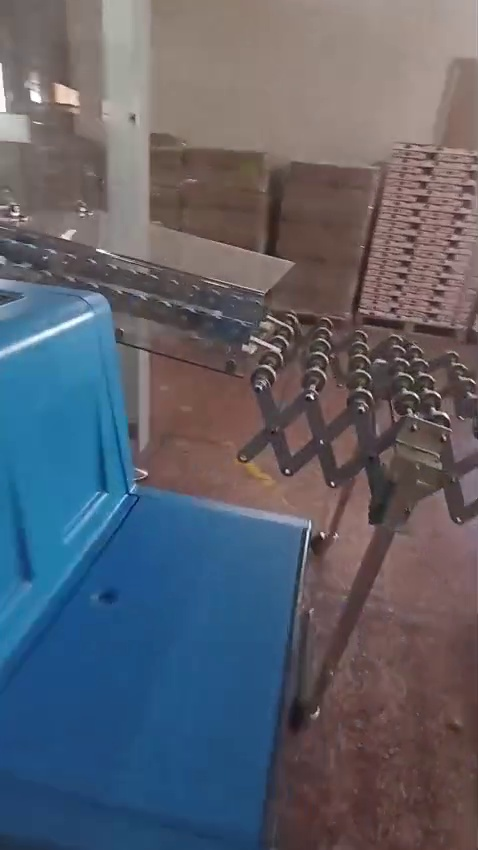savon: (149, 128, 316, 244), (399, 432, 452, 494), (232, 447, 280, 494), (224, 0, 272, 32), (51, 89, 80, 120), (403, 368, 426, 392), (267, 282, 280, 319), (153, 0, 187, 10), (353, 373, 368, 389)
